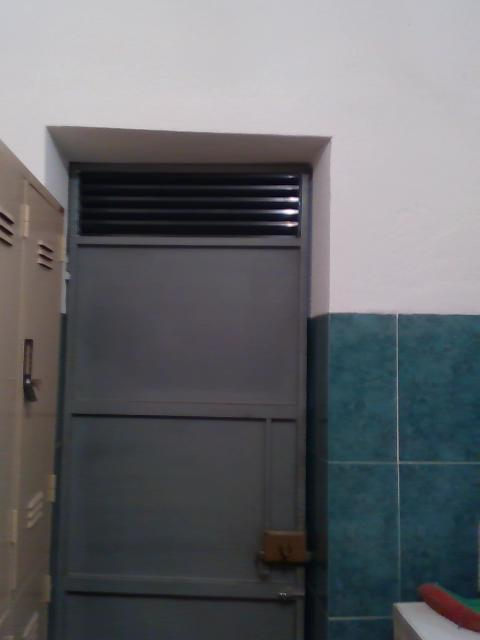door: (46, 160, 312, 640)
